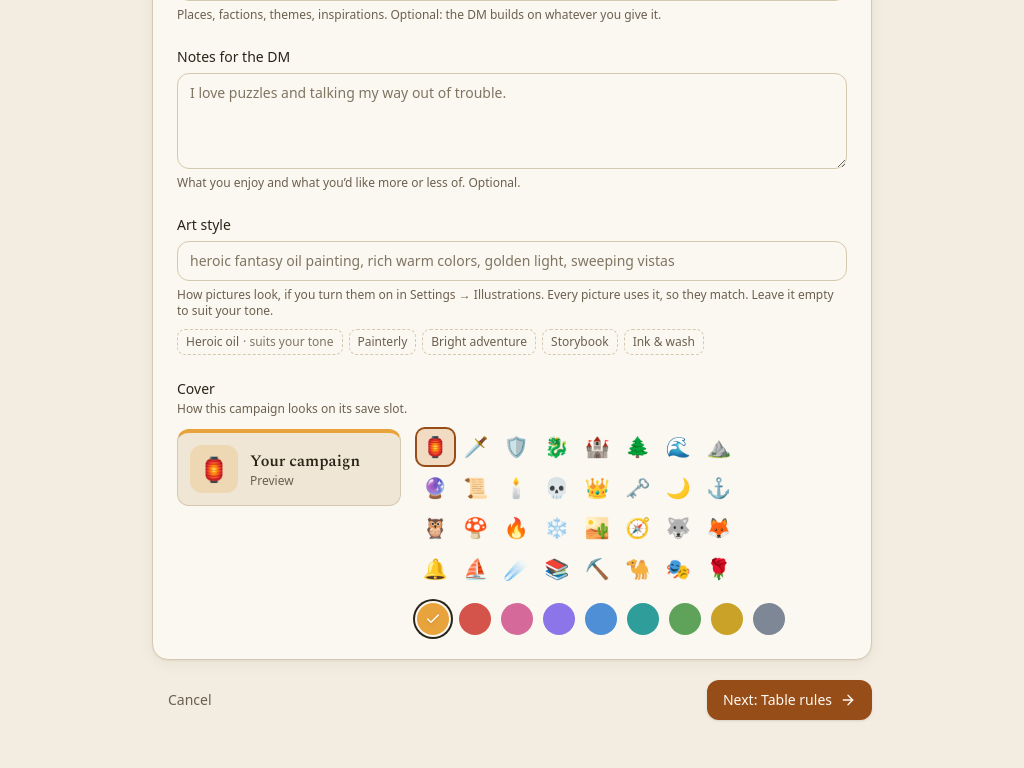
Test case: NewCampaignScreen › requires a campaign name before moving on
(page scrolled)
Click the button "Next: Table rules".
click(790, 700)  # box [707,680,872,720]
(page scrolled)
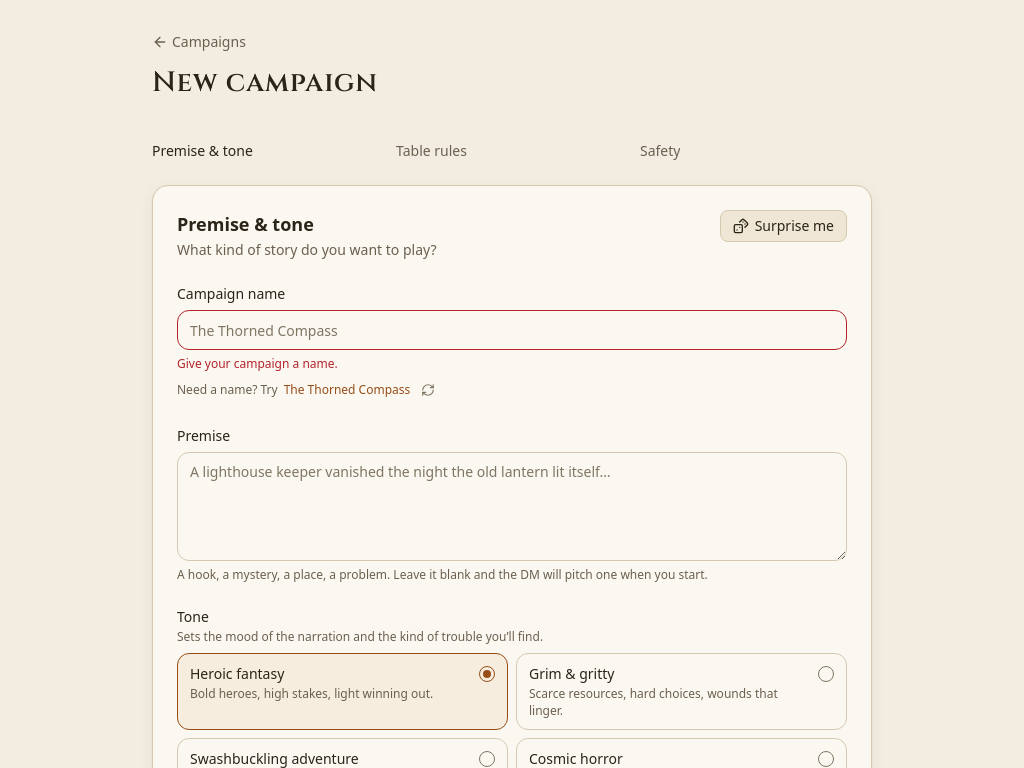
Expected: the heading "Premise & tone" is shown, [177,212,314,236]
Now the text "Give your campaign a name." is shown, box [177,355,338,372]
Type "The Salt Choir" into the field labelled "Campaign name".
click(512, 330); type("The Salt Choir")  # box [177,310,847,350]
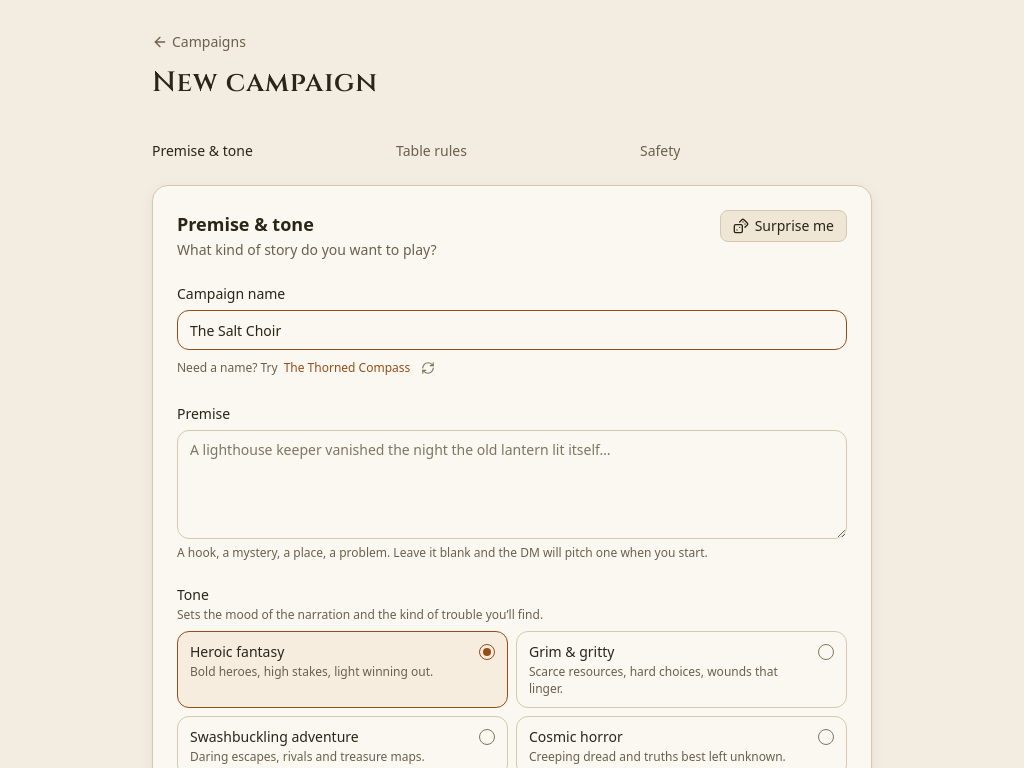
Now the text "Give your campaign a name." is gone
